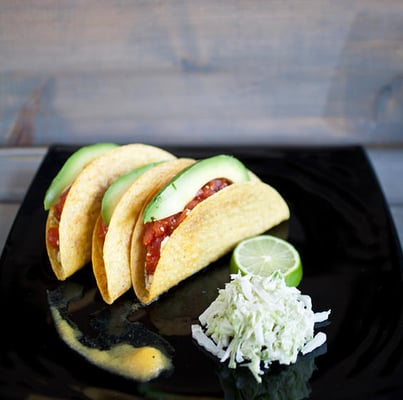curry: (190, 271, 327, 394)
pasta: (42, 142, 186, 294)
